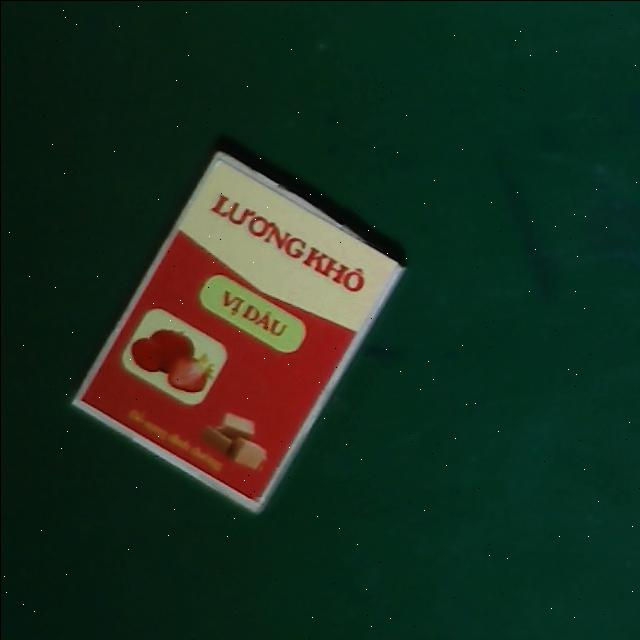dau: (68, 147, 409, 516)
